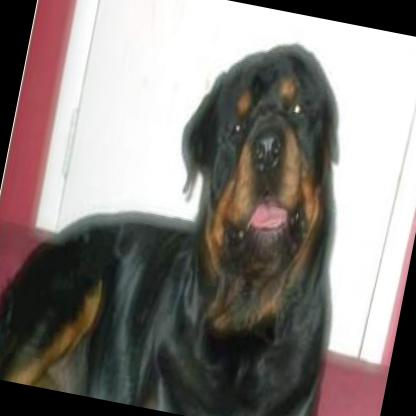Rottweiler: (0, 0, 383, 416)
